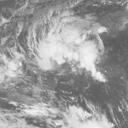cyclone: (36, 21, 99, 73)
